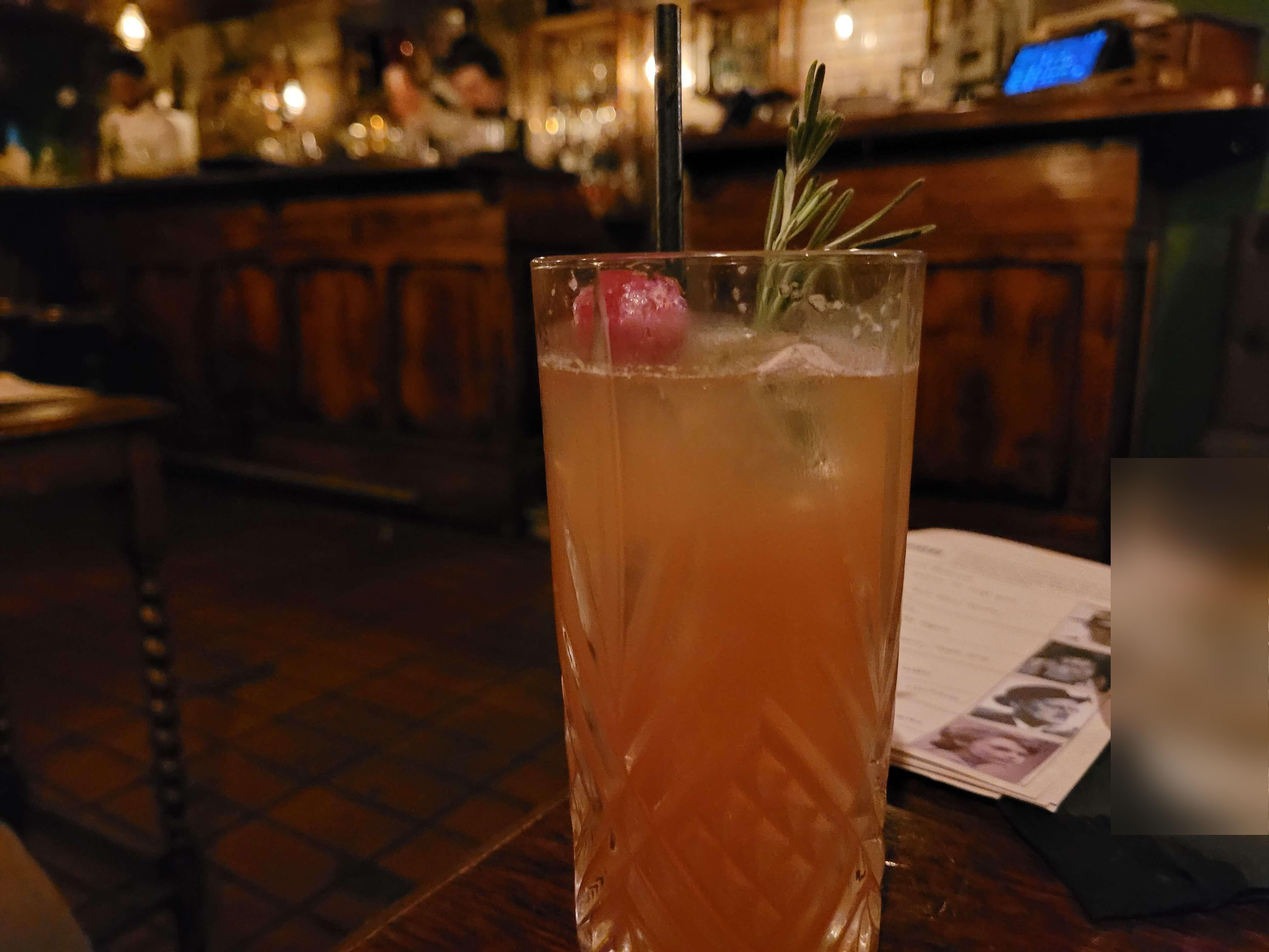glass-normal: (525, 247, 933, 952)
